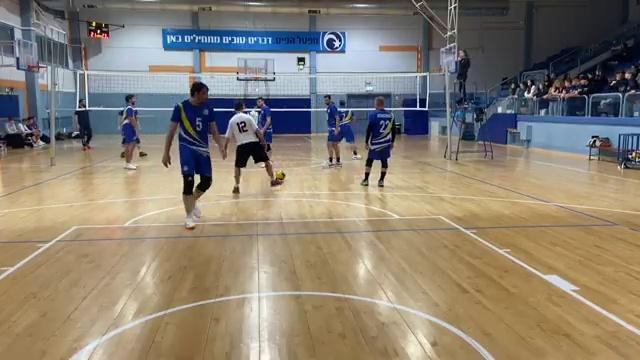ball: (269, 169, 288, 184)
